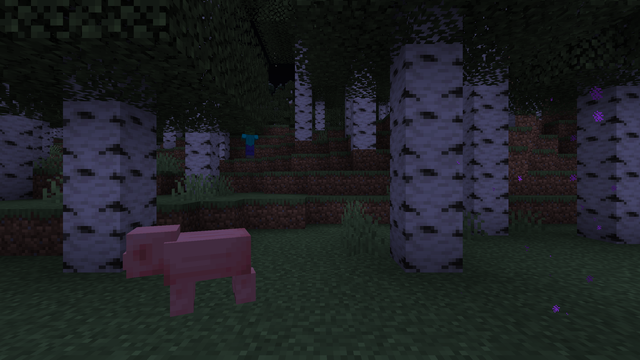cochons: (155, 226, 251, 315)
zombies: (243, 134, 254, 157)
